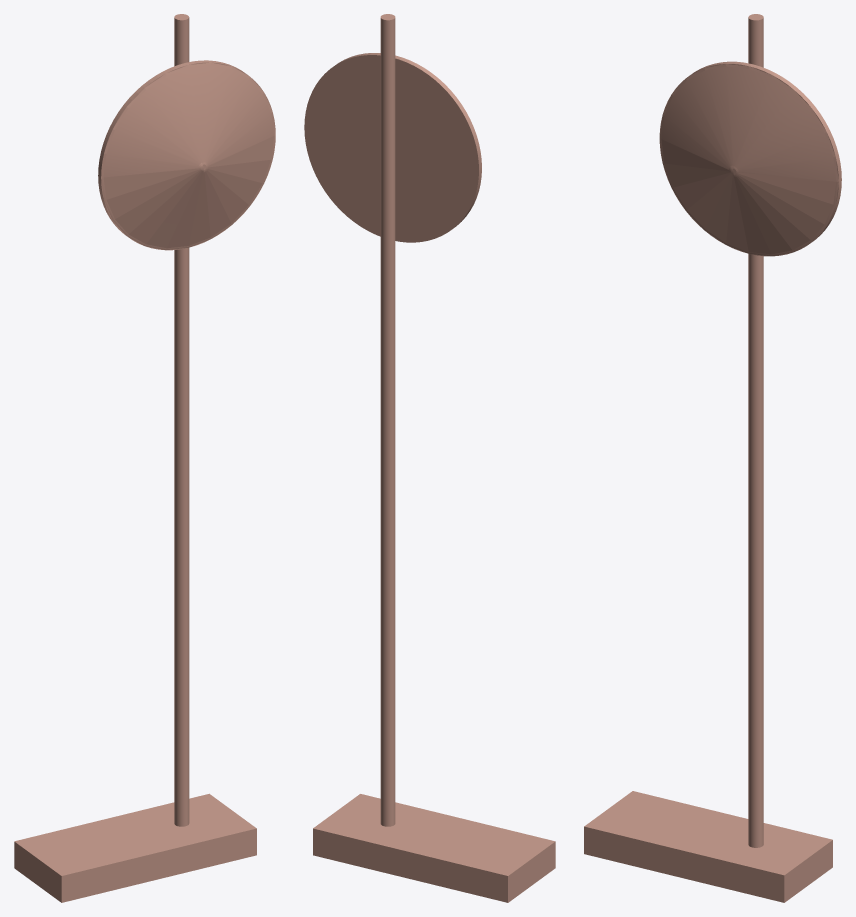
Rendered from 3densan.obj.
3 renders of one model, left to right at view 1: azimuth 30°, elevation 25°; view 2: azimuth 150°, elevation 25°; view 3: azimuth 330°, elevation 25°, orthographic. The views are drawn at different scales.
Visible parts, largest first — view 1: Profile_001_Mesh.027, Group_108_Mesh.025, Group_109_Mesh.026, Group_107_Mesh.024; view 2: Group_107_Mesh.024, Group_108_Mesh.025, Group_109_Mesh.026; view 3: Profile_001_Mesh.027, Group_108_Mesh.025, Group_109_Mesh.026, Group_107_Mesh.024.
Part boxes in pixels (x1,y1,x2,y2): Profile_001_Mesh.027: (101,62,275,250); Group_108_Mesh.025: (14,793,256,902); Group_109_Mesh.026: (174,14,189,826); Group_107_Mesh.024: (98,60,275,250); Group_107_Mesh.024: (304,53,481,242); Group_108_Mesh.025: (313,794,555,902); Group_109_Mesh.026: (380,14,395,826); Profile_001_Mesh.027: (659,64,838,256); Group_108_Mesh.025: (584,791,832,902); Group_109_Mesh.026: (748,14,763,847); Group_107_Mesh.024: (659,61,841,256).
Bounding box in the file's own units: 0.45 × 1.55 × 0.16.
